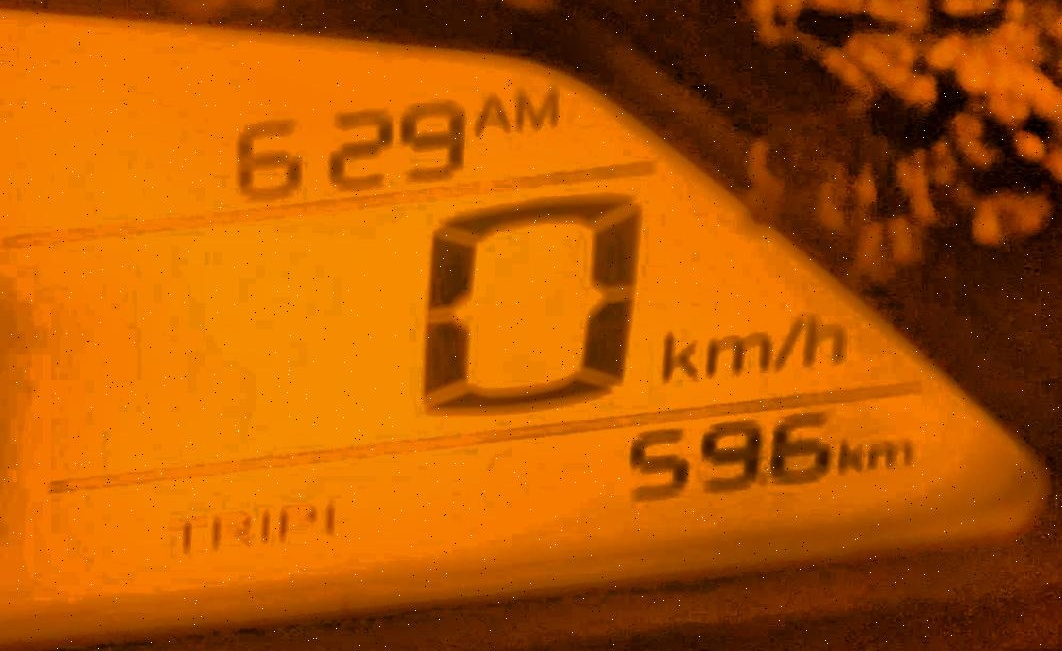0: (425, 195, 635, 422)
1: (321, 496, 345, 552)
2: (325, 105, 391, 187)
5: (624, 427, 688, 500)
6: (226, 110, 309, 199), (773, 411, 829, 480)
9: (399, 96, 463, 181), (698, 419, 755, 496)
X: (704, 331, 767, 377), (657, 325, 703, 383), (805, 309, 851, 365), (210, 508, 253, 557), (772, 312, 805, 374), (277, 496, 314, 550), (162, 508, 203, 556), (514, 87, 557, 132), (470, 96, 516, 137), (869, 439, 919, 472), (836, 433, 867, 477), (259, 495, 274, 563)
